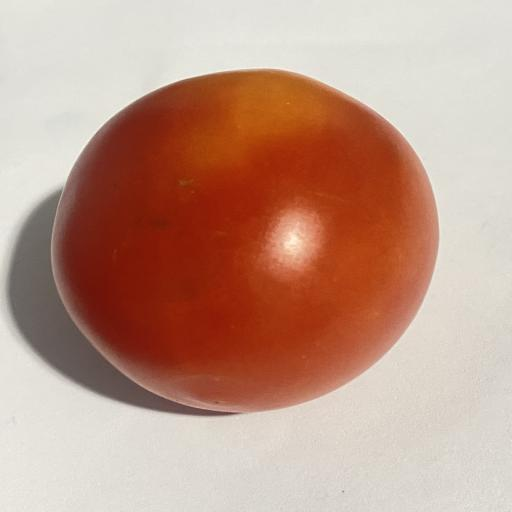ripe: (52, 70, 438, 412), (150, 219, 171, 229)
